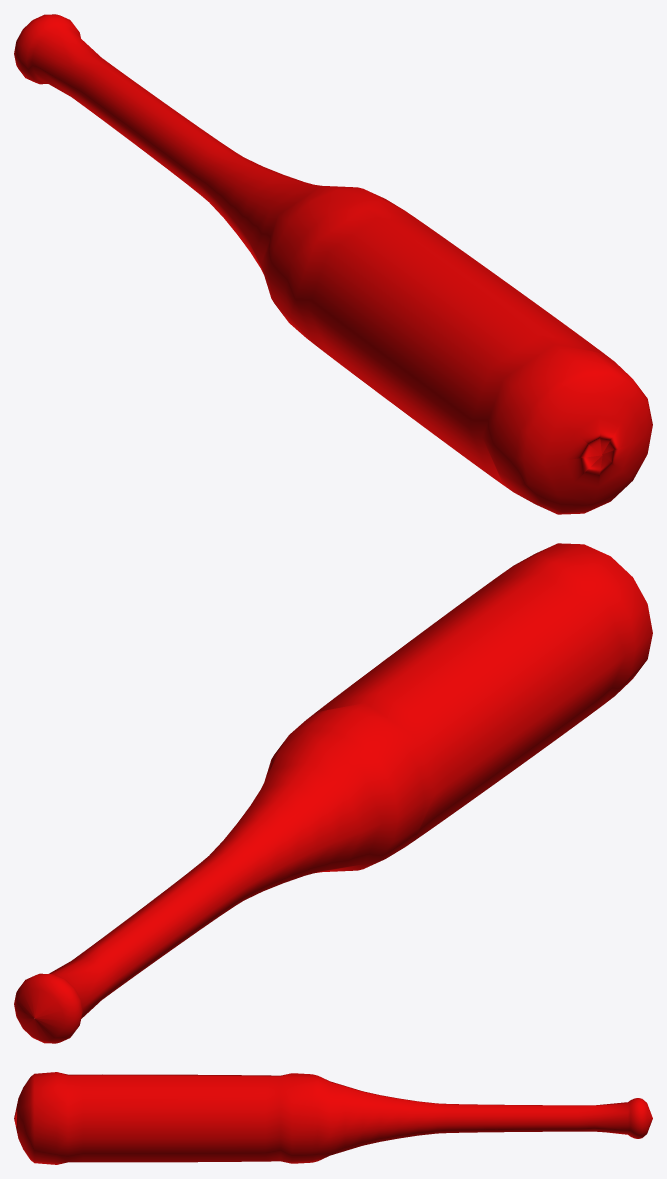
The model's file is BaseballBat.glb.
3 renders of one model, top to bottom at view 1: azimuth 30°, elevation 25°; view 2: azimuth 150°, elevation 25°; view 3: azimuth 270°, elevation 25°, orthographic. The views are drawn at different scales.
Parts seen in each view (by area): view 1: nurbsToPoly1; view 2: nurbsToPoly1; view 3: nurbsToPoly1.
Part boxes in pixels (x1,y1,x2,y2): nurbsToPoly1: [14, 14, 652, 514]; nurbsToPoly1: [14, 543, 652, 1043]; nurbsToPoly1: [14, 1072, 652, 1164].
Size of the model in its own units: 0.1326 by 0.1326 by 0.9046.
